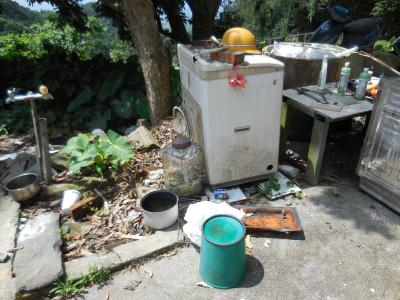bottle: (58, 187, 84, 216), (335, 57, 353, 97), (354, 65, 371, 103), (316, 55, 331, 93), (213, 186, 230, 201)
bowl: (138, 188, 181, 232), (2, 169, 43, 203)
bucket: (200, 212, 247, 292), (160, 133, 206, 202)
plate: (241, 204, 303, 236)
washing_machine: (177, 41, 284, 189)
